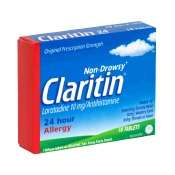grozi_39: (18, 21, 156, 154)
